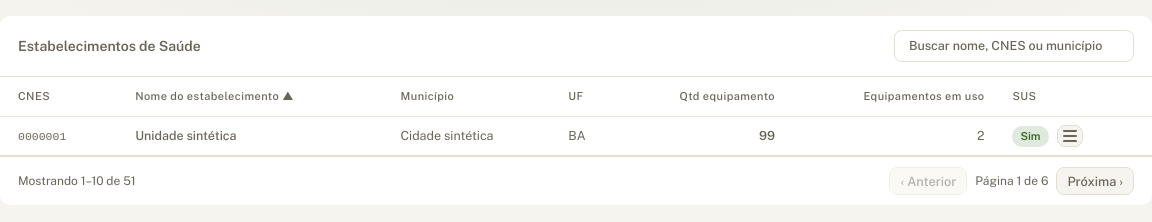
Test: estabelecimentos com transporte, hook e schema reais › adapta o tamanho de página à mídia e reinicia ao trocar de largura
The image size is (1152, 222).
Click the button with aria-label "Próxima página".
click(1095, 181)  # box [1056,167,1134,195]
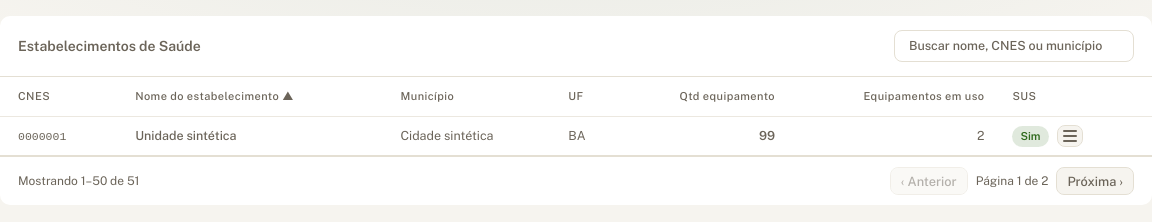
Expected: the text "Página 1 de 2" is shown, [976,173,1048,189]
